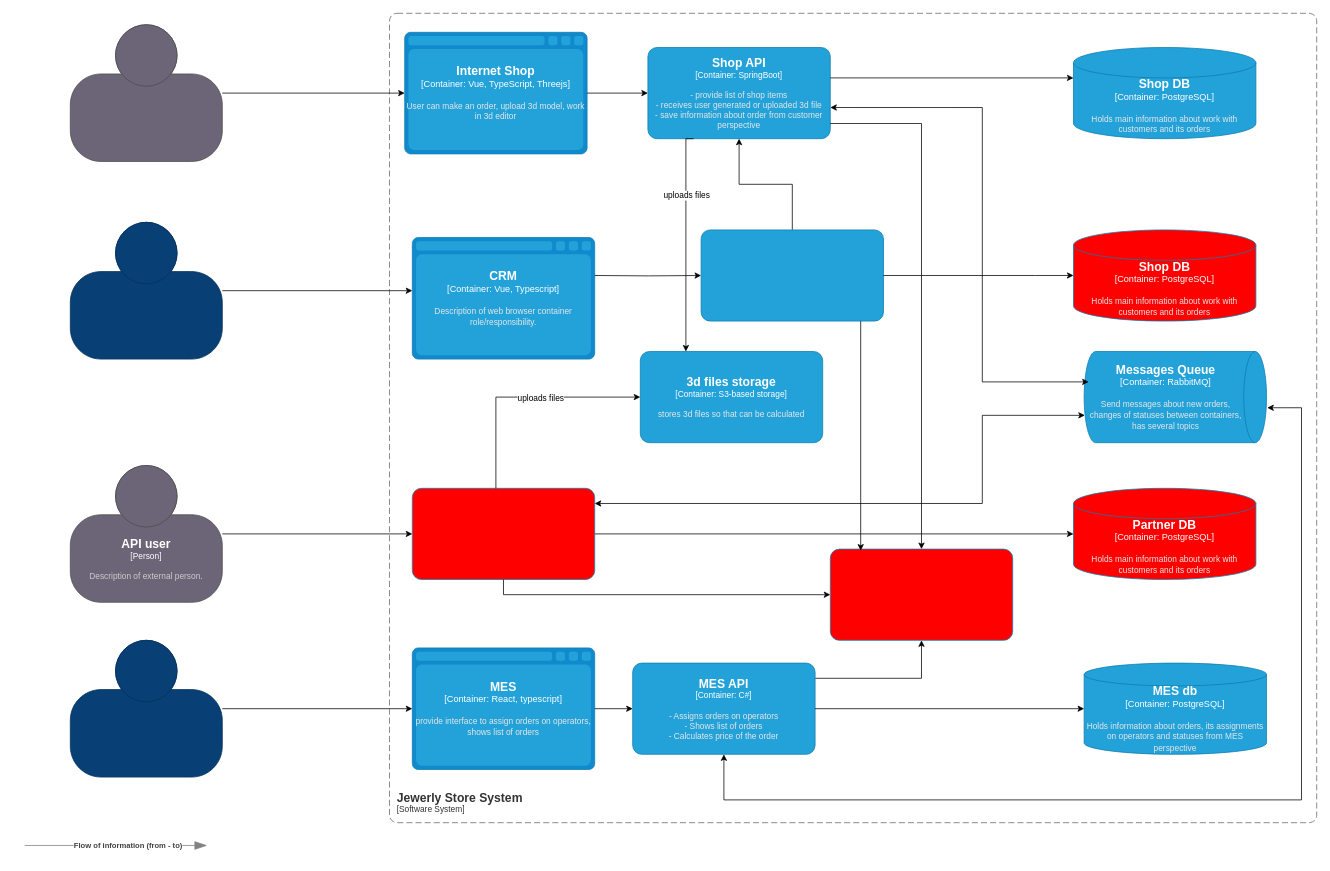
The diagram is 1330 pixels wide and 871 high, and some of its shapes have lost their labels. Each missing label, with the box of its shape:
CRM API [Container: SpringBoot] Description of container role/responsibility.: (700, 229, 884, 321)
Customer [Person] Description of external person.: (70, 24, 222, 162)
Jaeger All-In-One [Container: ] Receive orders from external partners: (830, 548, 1013, 640)
Operator [Person] Takes order in work, manufactures jewerly: (70, 640, 222, 777)
Partner API [Container: C#] Receive orders from external partners: (412, 488, 595, 580)
Seller [Person] Operates with order, confirms manufacturing for the user: (70, 222, 222, 359)
